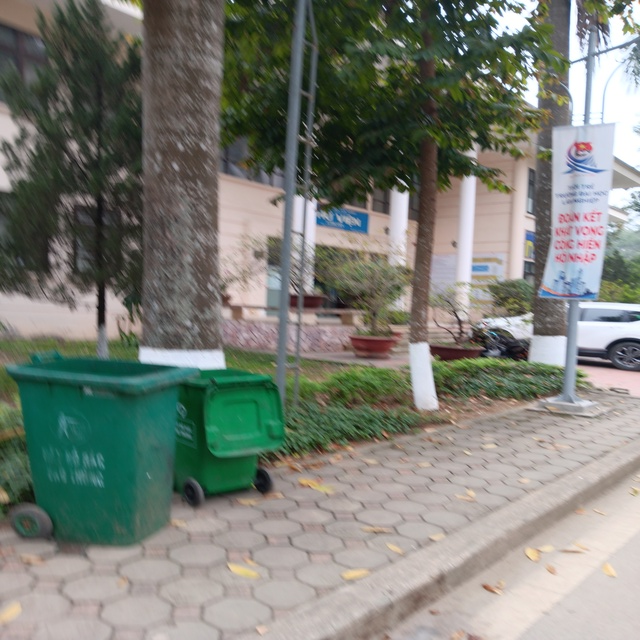thungrac: (11, 348, 181, 546), (170, 357, 291, 503)
